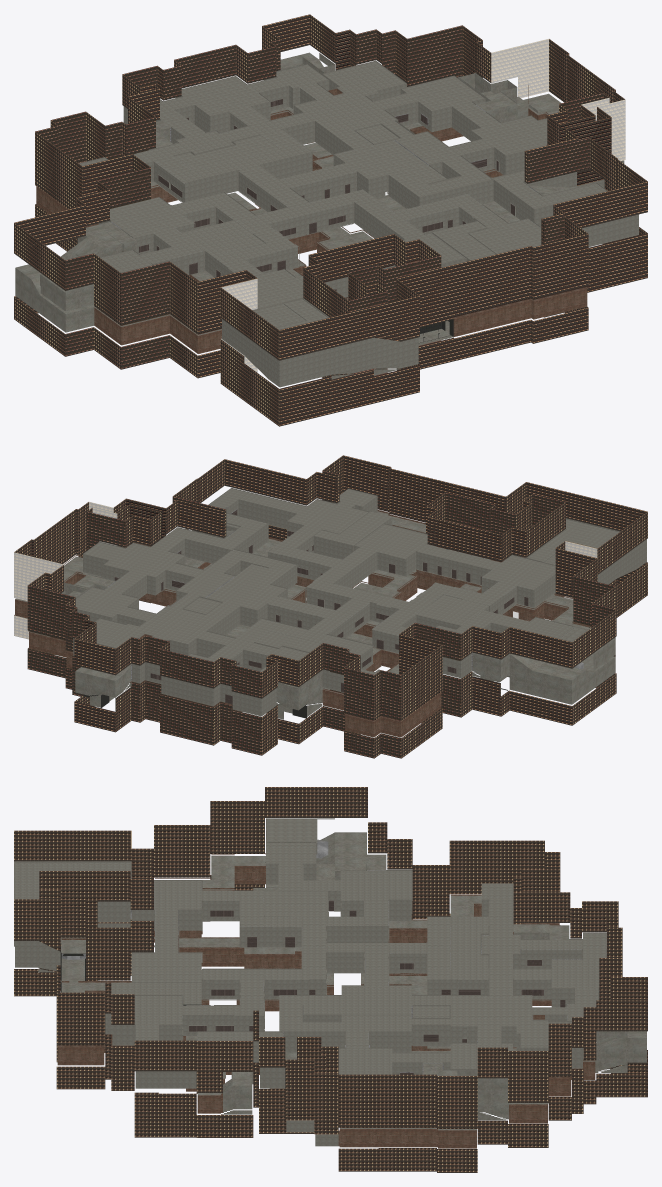
The model's file is gmod_creepy_corridors_map.glb.
3 views of the same model, one above another, from view 1: azimuth 30°, elevation 25°; view 2: azimuth 150°, elevation 25°; view 3: azimuth 270°, elevation 25° (orthographic). The views are drawn at different scales.
Visible parts, largest first — view 1: Object_31, Object_14, Object_46, Object_27, Object_47, Object_18, Object_25; view 2: Object_31, Object_14, Object_46, Object_27, Object_18, Object_47, Object_29, Object_25, Object_44; view 3: Object_31, Object_14, Object_46, Object_27, Object_47, Object_18, Object_25, Object_44, Object_50.
Boxes of the visible parts, x1,y1,x2,y2 form: Object_31: (14,14,647,426); Object_14: (80,61,606,345); Object_46: (79,60,638,387); Object_27: (36,72,587,353); Object_47: (16,52,624,335); Object_18: (15,53,547,332); Object_25: (139,99,486,271); Object_31: (14,455,647,758); Object_14: (75,488,620,674); Object_46: (73,488,646,716); Object_27: (15,510,591,737); Object_18: (61,537,615,719); Object_47: (15,511,614,694); Object_29: (114,545,528,704); Object_25: (150,510,514,680); Object_44: (161,553,593,670); Object_31: (14,787,647,1172); Object_14: (14,841,606,1134); Object_46: (15,841,606,1088); Object_27: (57,853,595,1148); Object_47: (61,832,646,1146); Object_18: (223,818,646,1120); Object_25: (189,910,543,1074); Object_44: (223,818,317,1078); Object_50: (61,839,606,1074).
Bounding box in the file's own units: 99.57 × 15.58 × 92.35.
60 materials, 31 textured.
